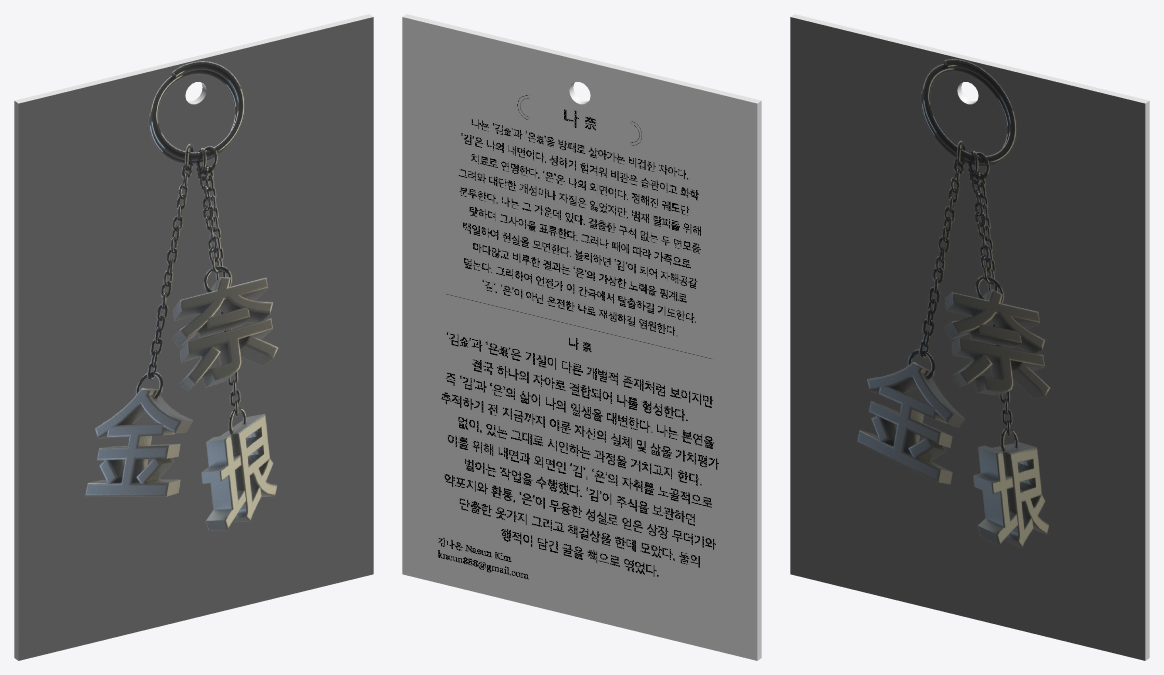
File: leaflet.glb
3 views of the same model, side by side, from view 1: azimuth 30°, elevation 25°; view 2: azimuth 150°, elevation 25°; view 3: azimuth 330°, elevation 25° (orthographic).
Parts seen in each view (by area): view 1: Boole-Mat.6, Boole-Mat.1; view 2: Boole-Mat.7, Boole-Mat.1; view 3: Boole-Mat.6, Boole-Mat.1.
Part boxes in pixels (bbox=[...]): Boole-Mat.6: bbox=[18, 17, 373, 660]; Boole-Mat.1: bbox=[14, 14, 372, 660]; Boole-Mat.7: bbox=[402, 17, 757, 660]; Boole-Mat.1: bbox=[403, 14, 761, 660]; Boole-Mat.6: bbox=[790, 17, 1145, 660]; Boole-Mat.1: bbox=[791, 14, 1149, 660].
Bounding box in the file's own units: 100 × 150 × 2.
3 materials, 2 textured.
